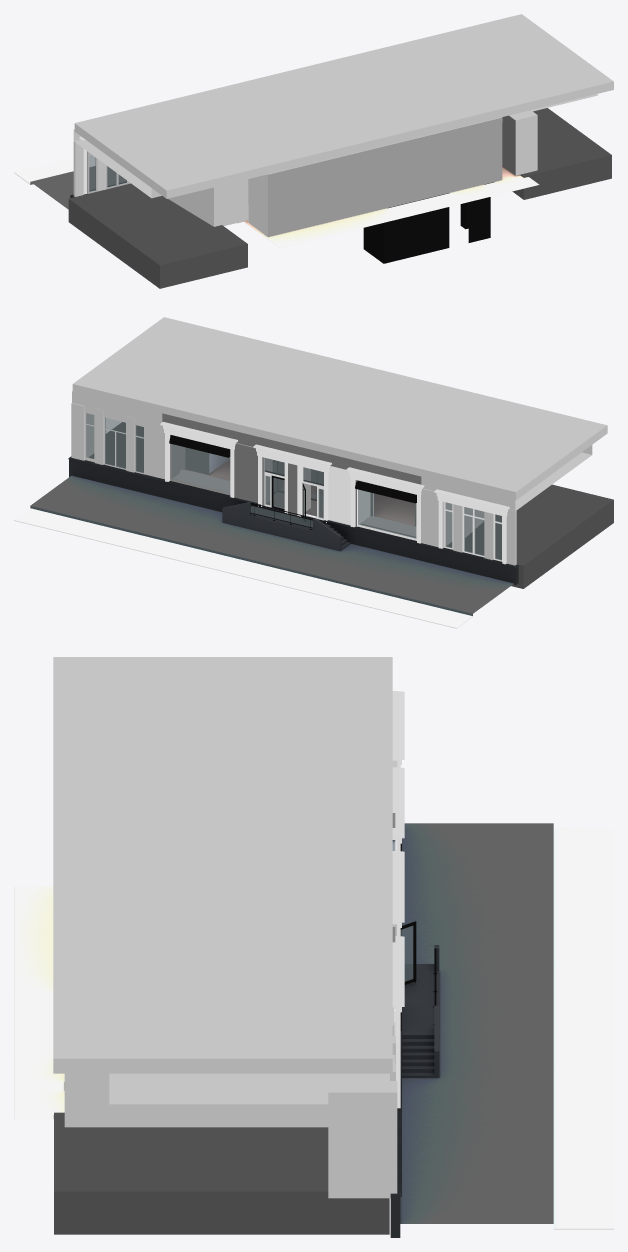
3 views of the same model, one above another, from view 1: azimuth 30°, elevation 25°; view 2: azimuth 150°, elevation 25°; view 3: azimuth 270°, elevation 25° (orthographic). The views are drawn at different scales.
Parts seen in each view (by area): view 1: Rectangle060, WALLS_A, Rectangle062, Rectangle061, Line009, Rectangle063, Object069_baked_baked_wqdddsWDREG_0, Rectangle042, GGG_glass_0; view 2: Rectangle060, Object069_baked_baked_wqdddsWDREG_0, GGG_glass_0, Rectangle042, WALLS_A, Rectangle062, Rectangle012, Object_baked_FASAD WIGHT 2_0, Rectangle027, Rectangle063, Rectangle014_baked_FASAD BLACK_0, Object072_baked_WIwd_0 (+5 smaller); view 3: Rectangle060, Object069_baked_baked_wqdddsWDREG_0, Rectangle061, Rectangle042, Rectangle063, Object_baked_FASAD WIGHT 2_0, Rectangle027, Rectangle012.
Boxes of the visible parts, x1,y1,x2,y2 form: Rectangle060: [73, 14, 613, 236]; WALLS_A: [268, 115, 515, 237]; Rectangle062: [68, 183, 247, 288]; Rectangle061: [512, 108, 611, 199]; Line009: [363, 197, 490, 263]; Rectangle063: [243, 166, 539, 247]; Object069_baked_baked_wqdddsWDREG_0: [30, 166, 126, 209]; Rectangle042: [14, 155, 95, 184]; GGG_glass_0: [89, 153, 126, 191]; Rectangle060: [71, 317, 607, 565]; Object069_baked_baked_wqdddsWDREG_0: [30, 475, 513, 615]; GGG_glass_0: [86, 413, 501, 560]; Rectangle042: [14, 508, 472, 628]; WALLS_A: [162, 413, 421, 537]; Rectangle062: [447, 484, 613, 588]; Rectangle012: [68, 456, 518, 584]; Object_baked_FASAD WIGHT 2_0: [160, 422, 509, 564]; Rectangle027: [222, 502, 350, 551]; Rectangle063: [185, 461, 414, 525]; Rectangle014_baked_FASAD BLACK_0: [264, 467, 502, 561]; Object072_baked_WIwd_0: [328, 466, 355, 526]; Rectangle060: [53, 657, 397, 1198]; Object069_baked_baked_wqdddsWDREG_0: [400, 823, 553, 1223]; Rectangle061: [54, 1112, 389, 1234]; Rectangle042: [553, 827, 613, 1229]; Rectangle063: [14, 886, 64, 1119]; Object_baked_FASAD WIGHT 2_0: [392, 691, 404, 1108]; Rectangle027: [401, 945, 439, 1077]; Rectangle012: [390, 844, 401, 1237].
Size of what is drawn, in the model's own units: 5650 by 1574 by 3504.
